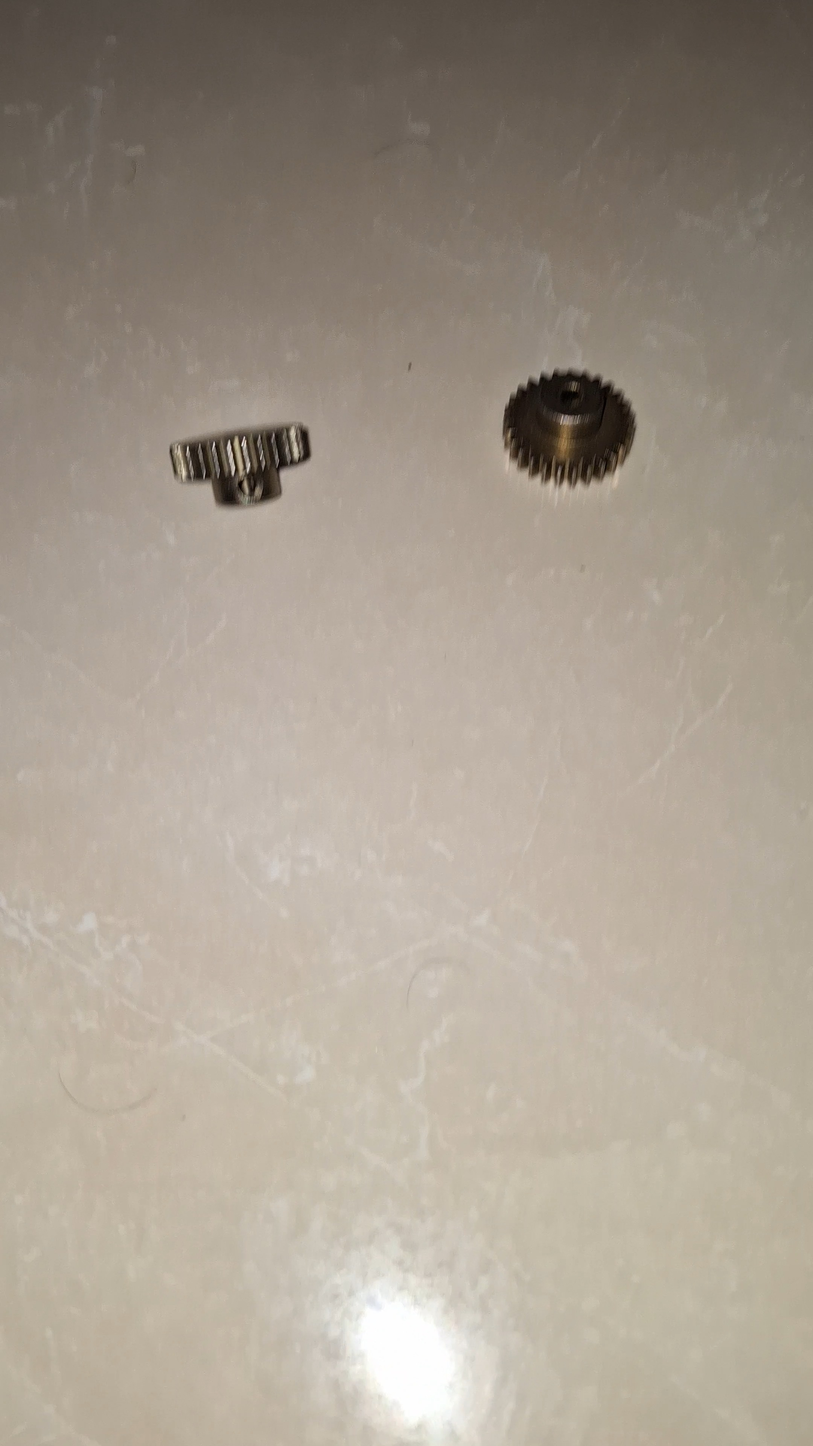spur gear: (504, 372, 635, 484), (171, 424, 309, 505), (235, 473, 267, 505)
